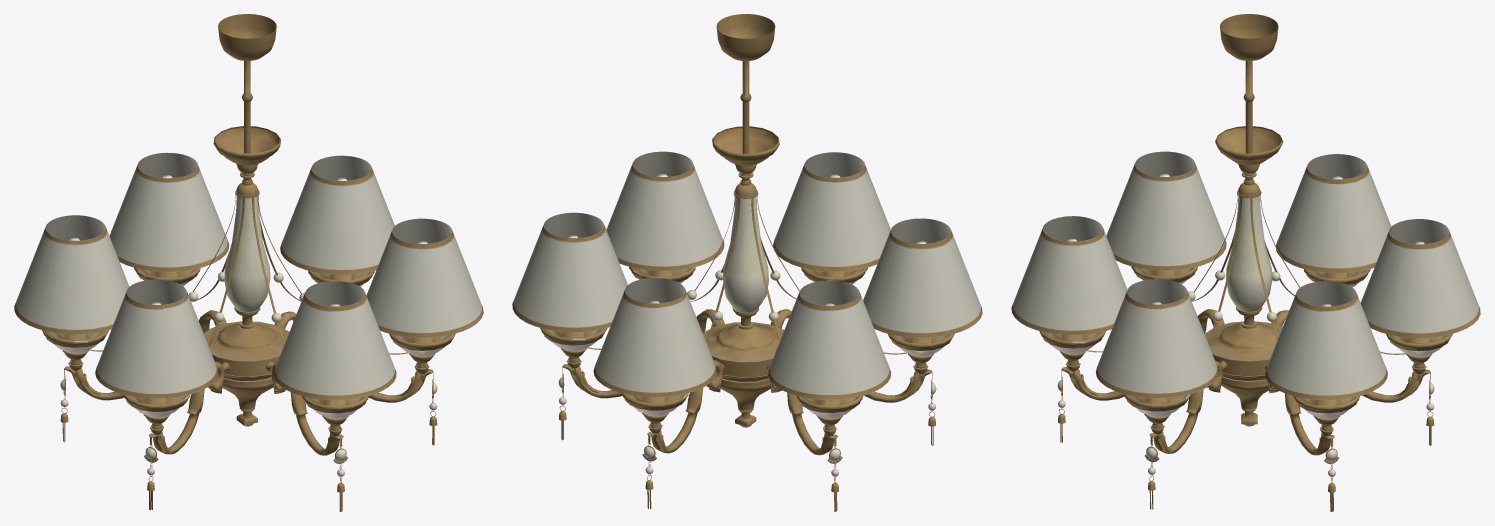
The model's file is chandelier.glb.
The picture shows the model from 3 angles, left to right: view 1: azimuth 30°, elevation 25°; view 2: azimuth 150°, elevation 25°; view 3: azimuth 270°, elevation 25°; orthographic projection.
Parts seen in each view (by area): view 1: Chandelier_01; view 2: Chandelier_01; view 3: Chandelier_01.
Boxes of the visible parts, x1,y1,x2,y2 form: Chandelier_01: (14, 14, 483, 511); Chandelier_01: (512, 14, 982, 511); Chandelier_01: (1011, 14, 1480, 511).
Bounding box in the file's own units: 0.7465 × 0.7982 × 0.8155.
2 materials, 1 textured.
